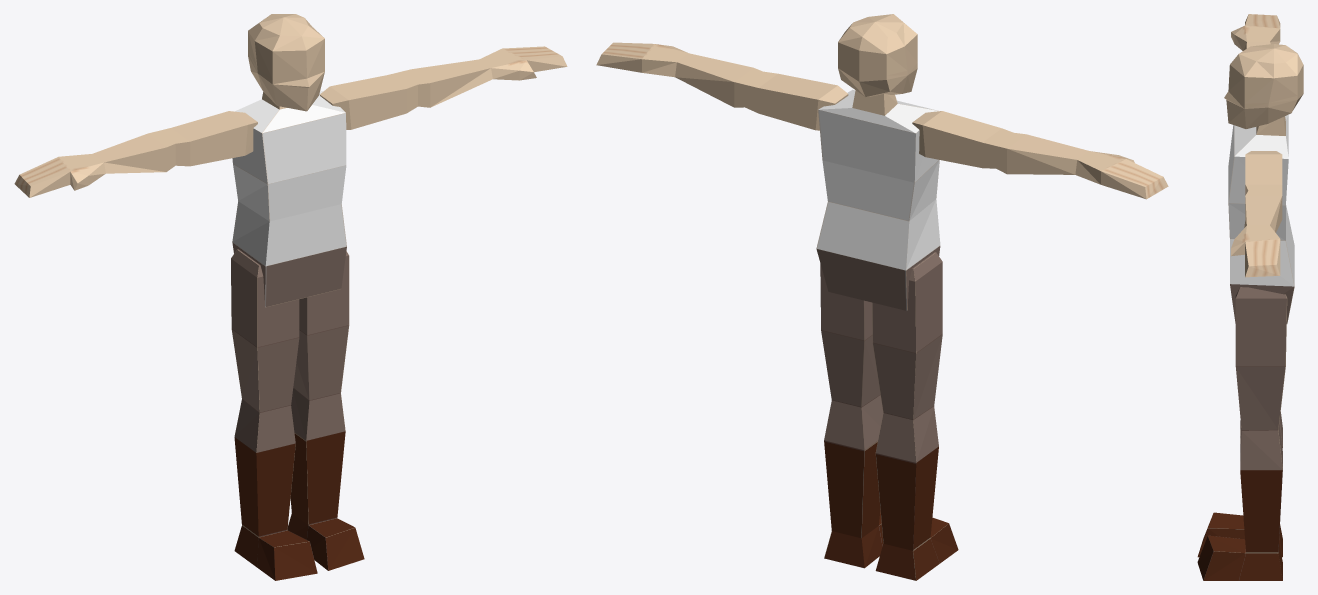
File: BaseMascTemplate.obj
3 views of the same model, side by side, from view 1: azimuth 30°, elevation 25°; view 2: azimuth 150°, elevation 25°; view 3: azimuth 270°, elevation 25° (orthographic). The views are drawn at different scales.
Parts seen in each view (by area): view 1: Default; view 2: Default; view 3: Default.
Part boxes in pixels (<box>): Default: <box>14,14,567,580</box>; Default: <box>596,14,1168,580</box>; Default: <box>1197,14,1303,580</box>.
Size of the model in its own units: 25.63 by 23.94 by 4.5.
Materials: 1 (1 with a texture image).
